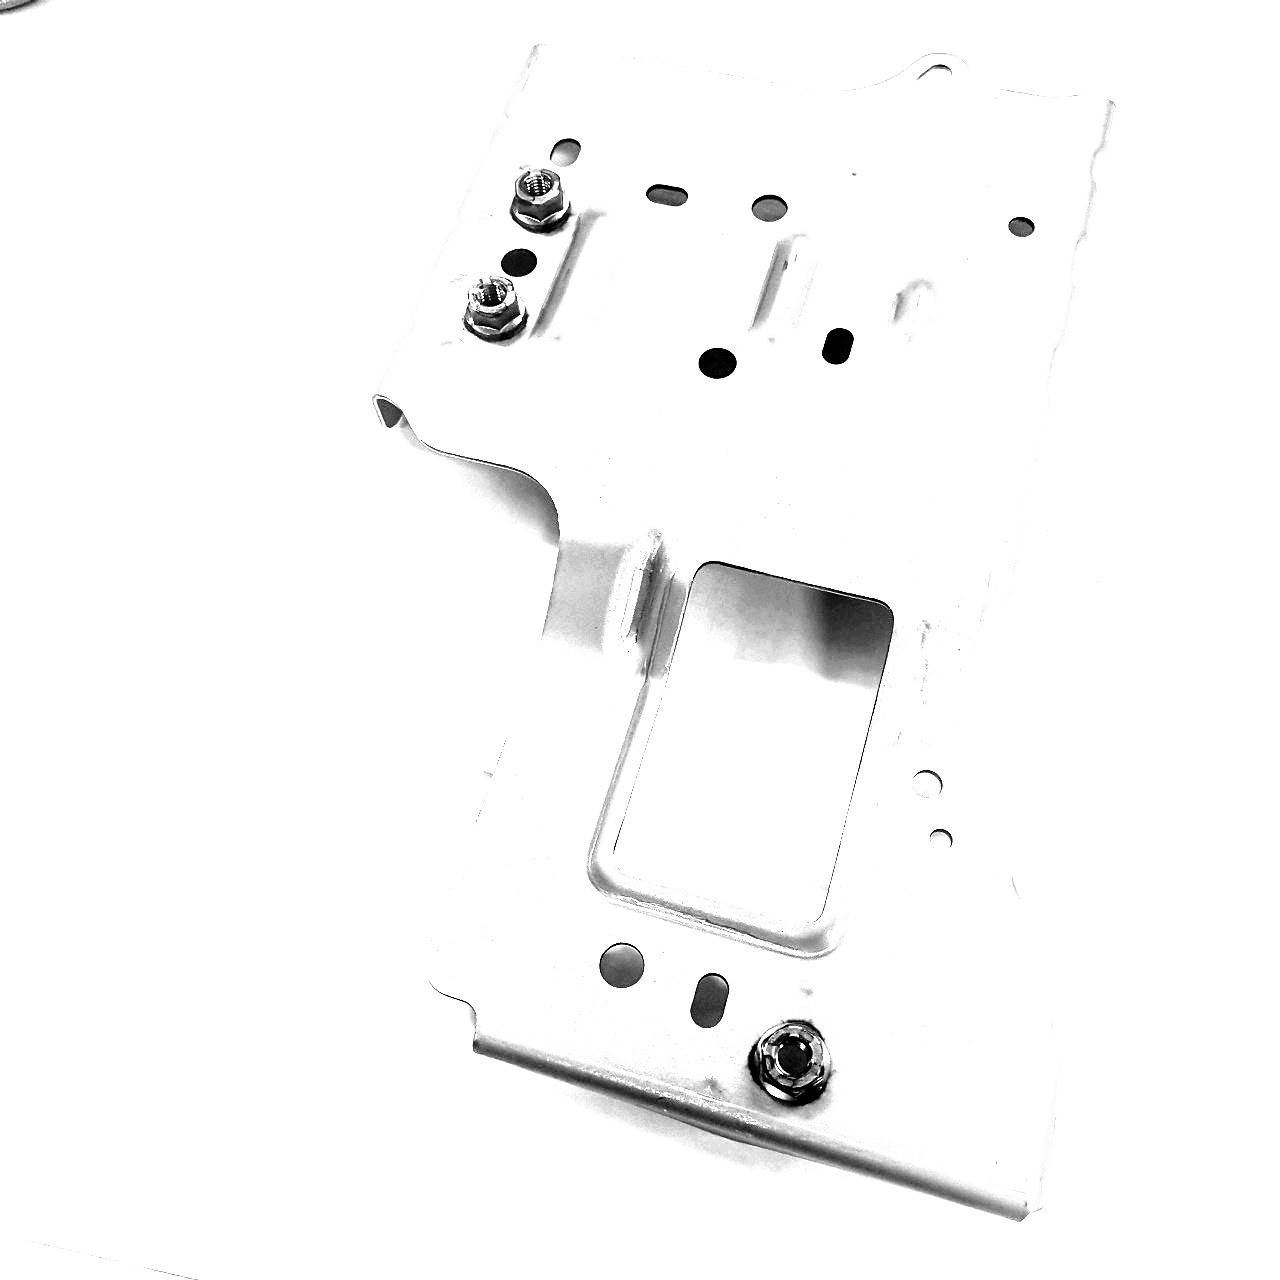dog: (742, 1012, 838, 1112), (504, 164, 578, 238), (458, 272, 532, 346)
